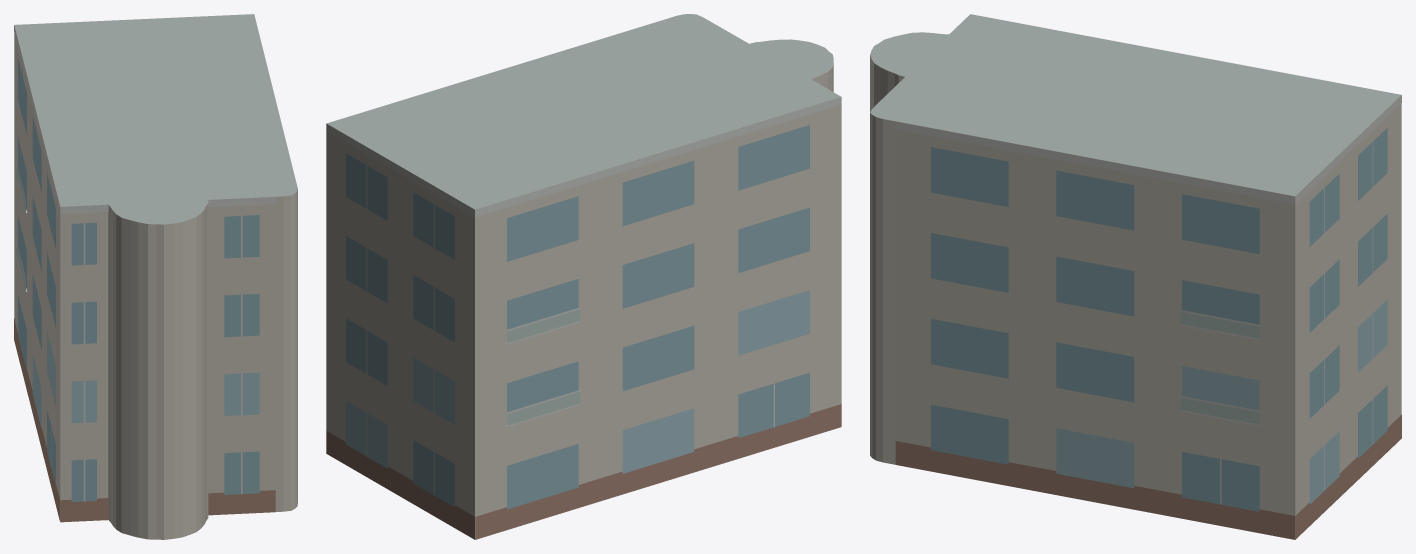
Rendered from survey-upis-32516571.glb.
3 renders of one model, left to right at view 1: azimuth 30°, elevation 25°; view 2: azimuth 150°, elevation 25°; view 3: azimuth 270°, elevation 25°, orthographic. The views are drawn at different scales.
Parts seen in each view (by area): view 1: survey-upis-32516571.tmp; view 2: survey-upis-32516571.tmp; view 3: survey-upis-32516571.tmp.
Part boxes in pixels (x1,y1,x2,y2): survey-upis-32516571.tmp: (14,14,297,539); survey-upis-32516571.tmp: (326,14,841,539); survey-upis-32516571.tmp: (870,14,1401,539).
Size of the model in its own units: 11.96 by 10.5 by 14.74.
